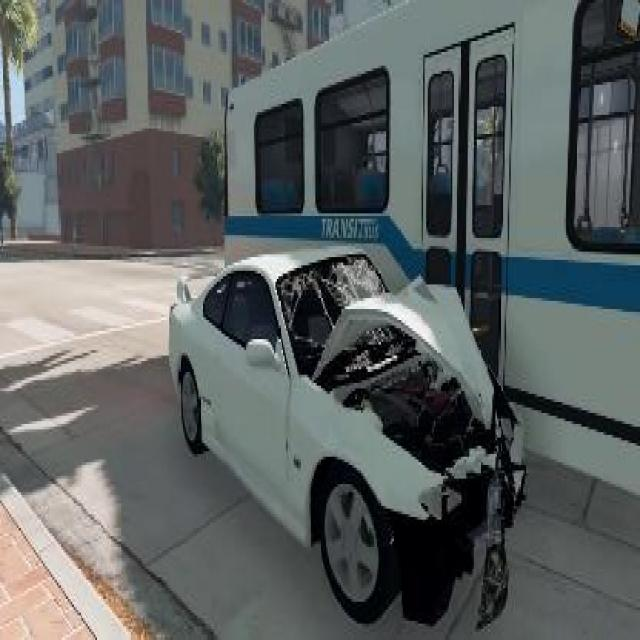accident: (156, 0, 638, 637)
